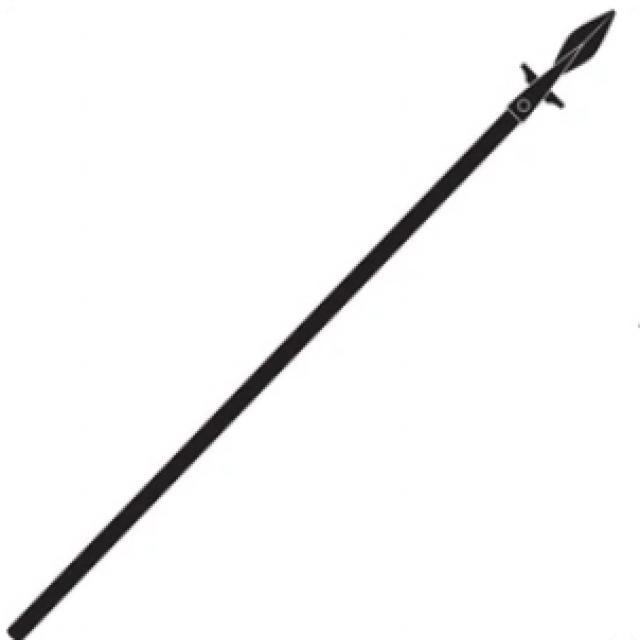spear: (8, 0, 626, 640)
